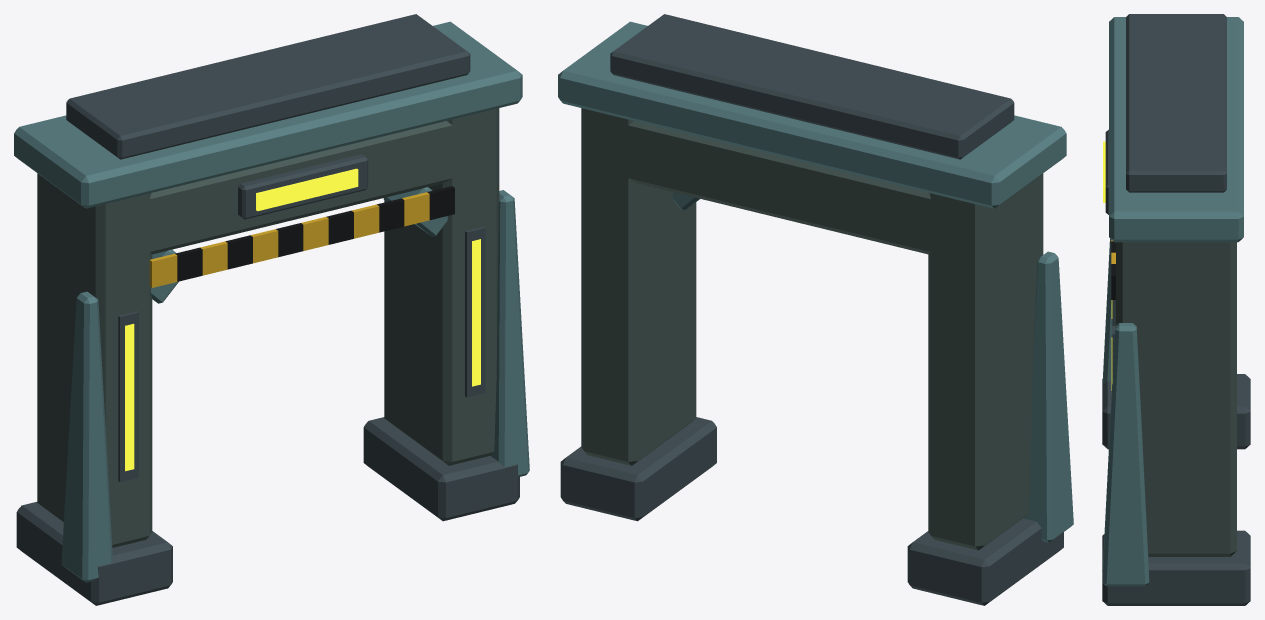
File: Env_GateFrame.fbx
3 views of the same model, side by side, from view 1: azimuth 30°, elevation 25°; view 2: azimuth 150°, elevation 25°; view 3: azimuth 270°, elevation 25° (orthographic). The views are drawn at different scales.
Parts seen in each view (by area): view 1: Env_GateFrame; view 2: Env_GateFrame; view 3: Env_GateFrame.
Part boxes in pixels (left/top/right/bottom): Env_GateFrame: left=14, top=14, right=529, bottom=605; Env_GateFrame: left=558, top=14, right=1073, bottom=605; Env_GateFrame: left=1102, top=14, right=1250, bottom=605.
Size of the model in its own units: 7.1 by 2.2 by 6.86.
